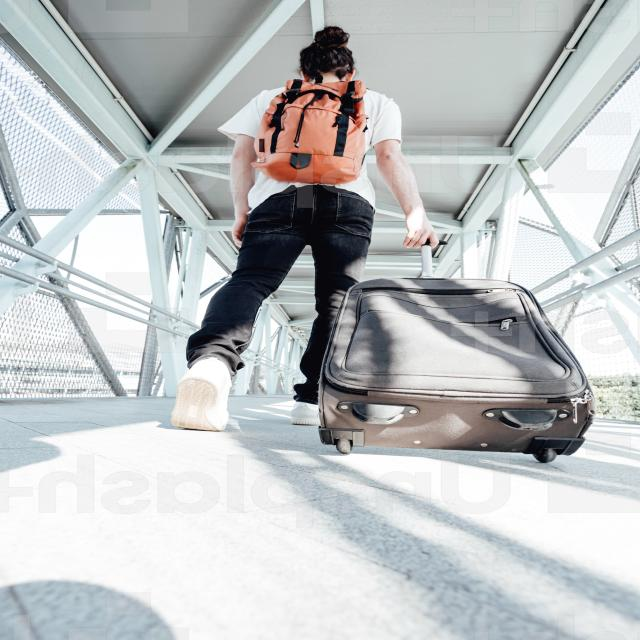adult: (179, 28, 442, 427)
